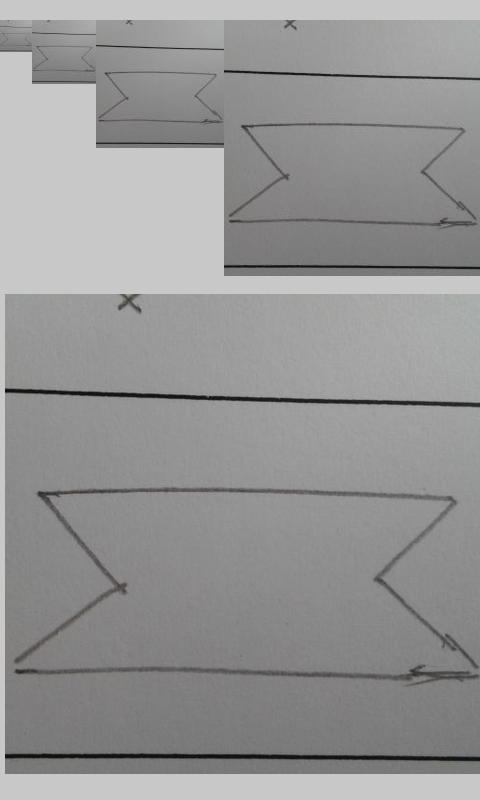edit_text: (19, 485, 479, 685), (231, 122, 479, 228), (99, 70, 222, 124), (33, 45, 96, 72), (1, 32, 31, 47)
